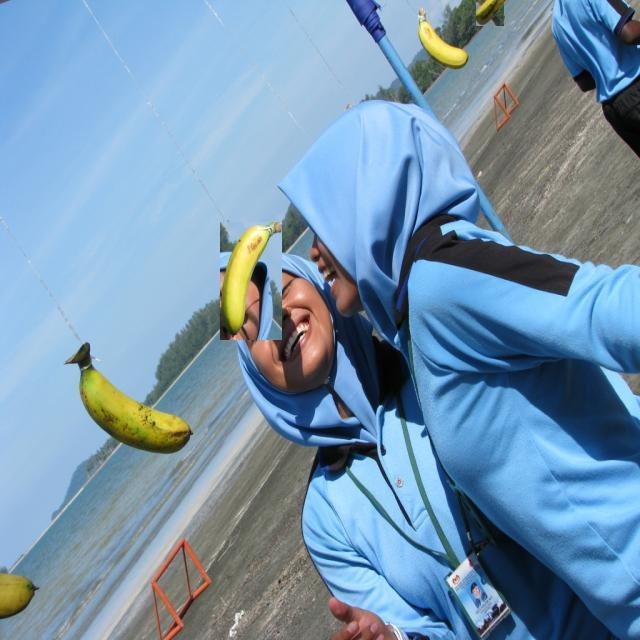Banana: (65, 343, 193, 456), (220, 222, 282, 340), (418, 10, 470, 70), (0, 574, 37, 618), (476, 0, 504, 31)
